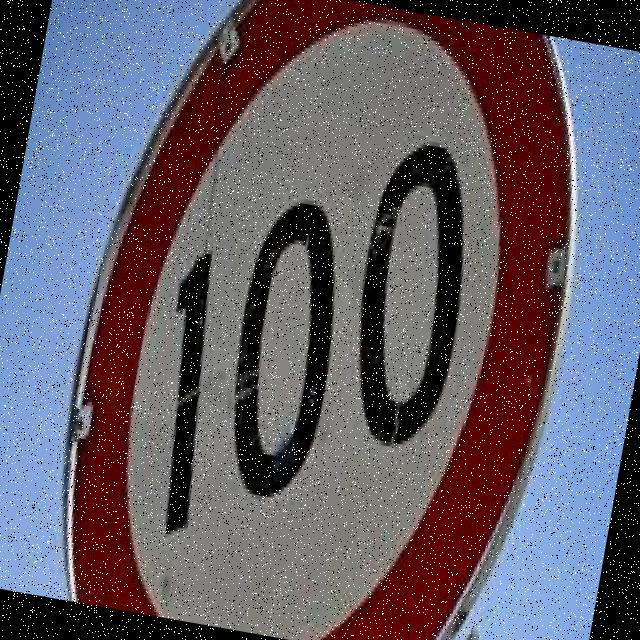speed_limit_100: (27, 0, 618, 640)
